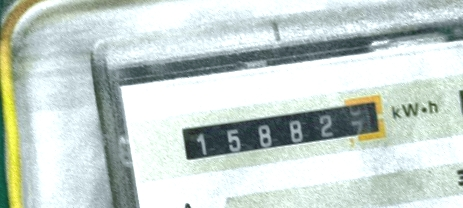1: (193, 132, 208, 159)
2: (316, 114, 335, 141)
5: (224, 128, 241, 156)
7: (347, 119, 365, 138)
8: (254, 124, 274, 151), (286, 120, 304, 146)
screen: (170, 90, 395, 177)
